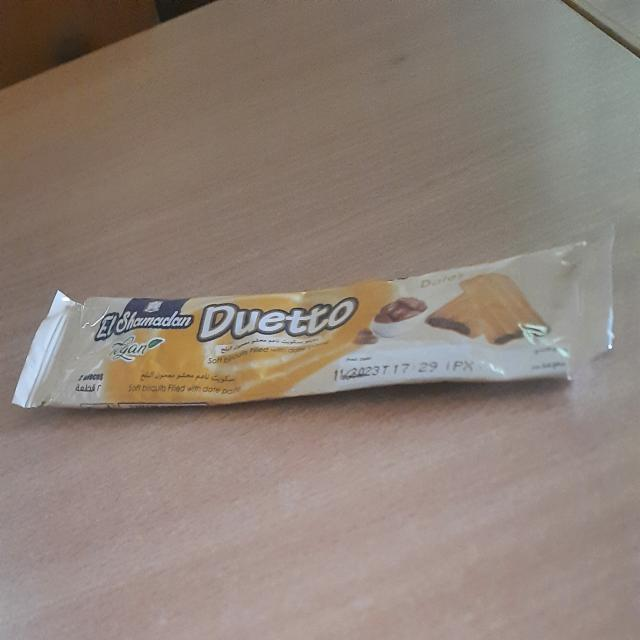trash: (10, 221, 631, 444)
